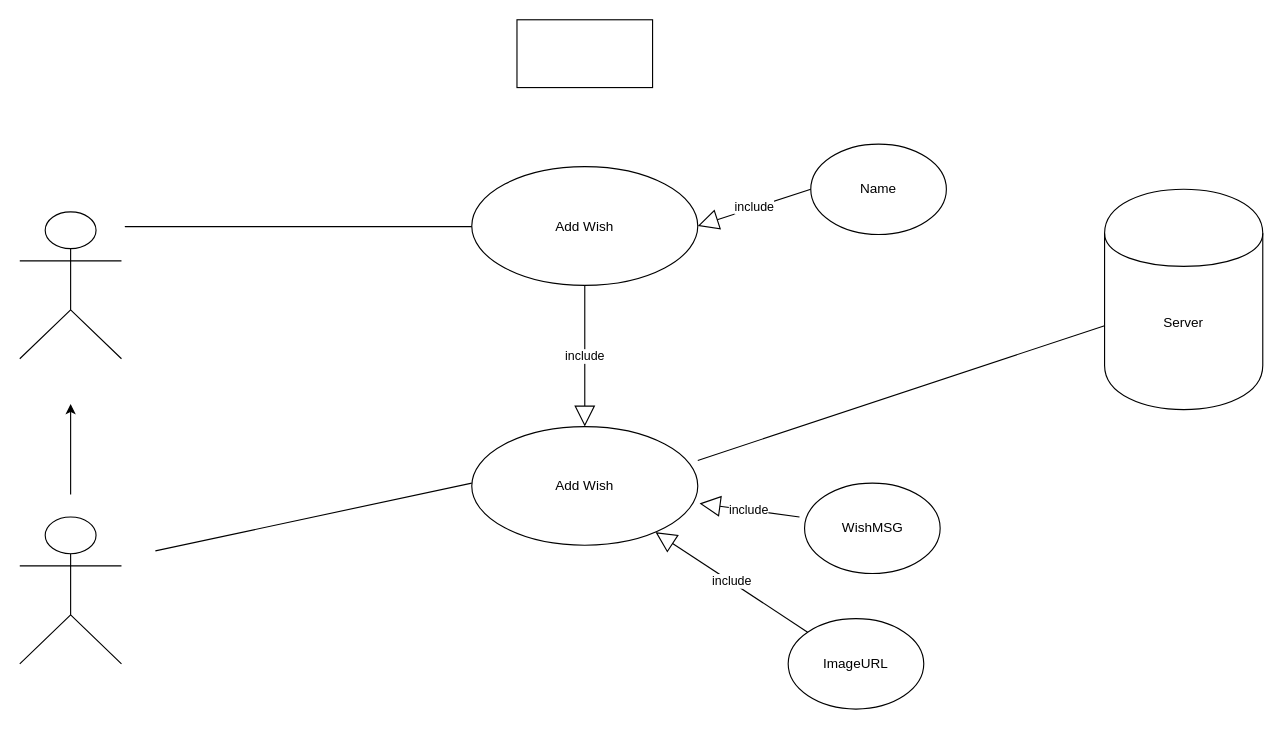
The diagram is 1283 pixels wide and 729 high, and some of its shapes have lost their labels. Here are the shapes that lost their labels. From the top down, the box of each, then its label:
(516, 19, 653, 88): Adding Wishes Page
(19, 211, 121, 359): Visitor
(19, 516, 121, 664): User
